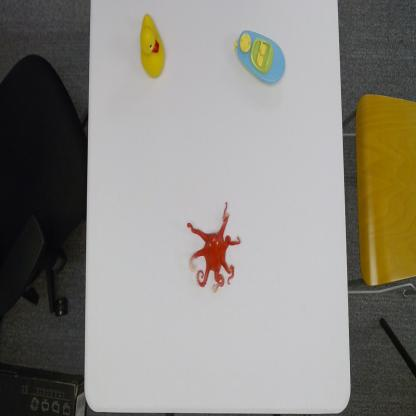Boat: (233, 27, 286, 86)
Duck: (139, 11, 166, 82)
Octopus: (185, 202, 243, 292)
